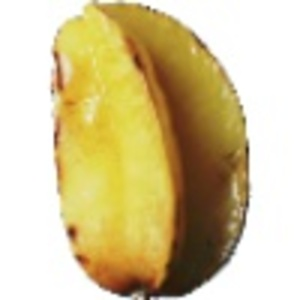carambola: (49, 1, 252, 300)
